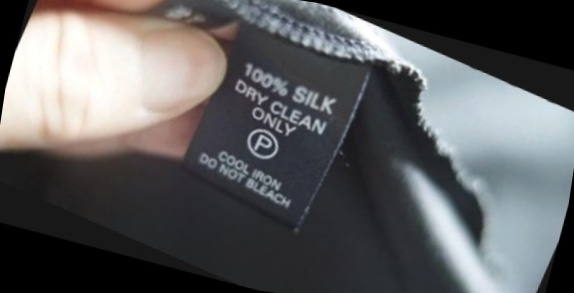dry_clean_any_solvent_except_trichloroethylene: (241, 121, 288, 166)
